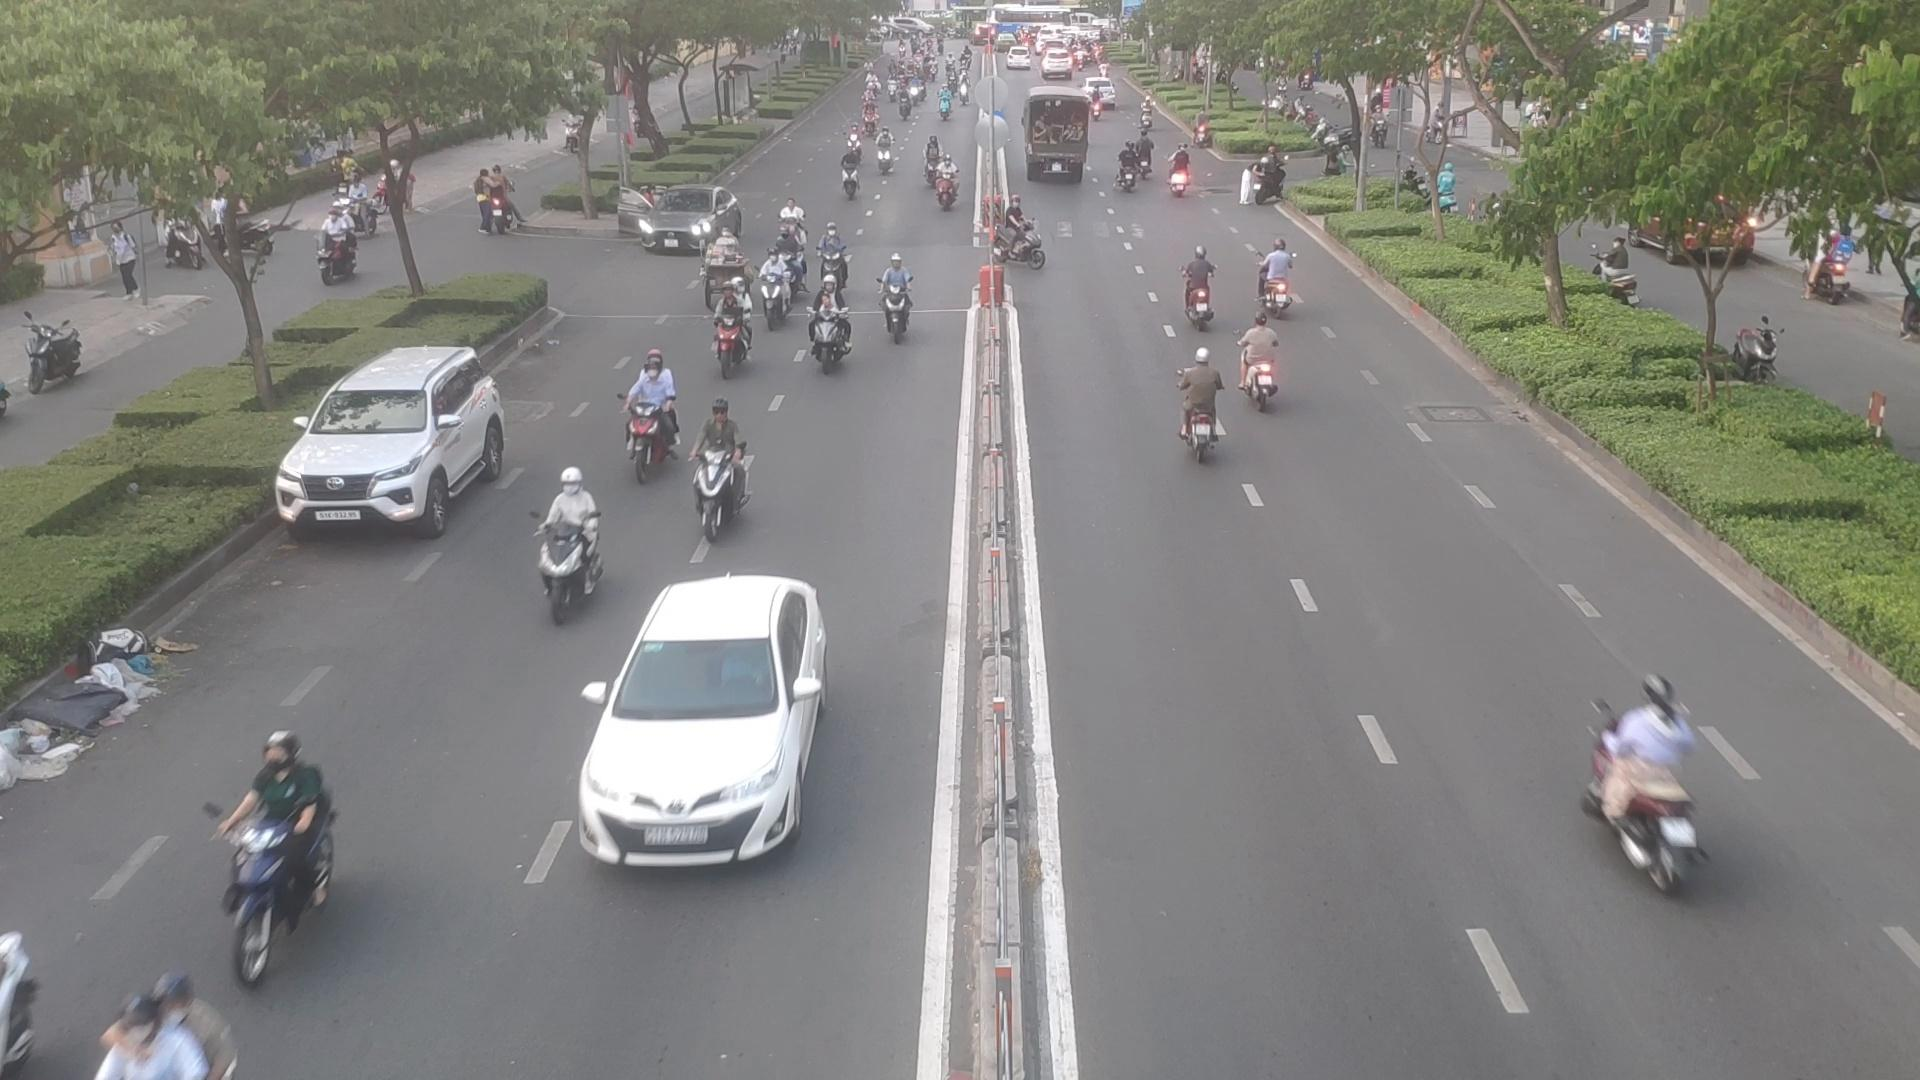car: (576, 578, 829, 868), (272, 345, 513, 535), (620, 187, 735, 255)
motorbike: (1586, 663, 1710, 893), (224, 785, 335, 982), (534, 462, 603, 607), (616, 343, 680, 473), (698, 397, 750, 533), (704, 269, 757, 364), (1185, 345, 1224, 467), (807, 272, 853, 371), (990, 199, 1051, 266), (1237, 307, 1280, 400), (1182, 247, 1218, 330), (756, 244, 794, 323), (880, 256, 916, 334), (1263, 243, 1294, 316), (1164, 146, 1191, 206), (822, 222, 847, 284), (874, 127, 894, 179), (1120, 144, 1137, 199), (843, 150, 862, 196), (940, 156, 957, 204)
